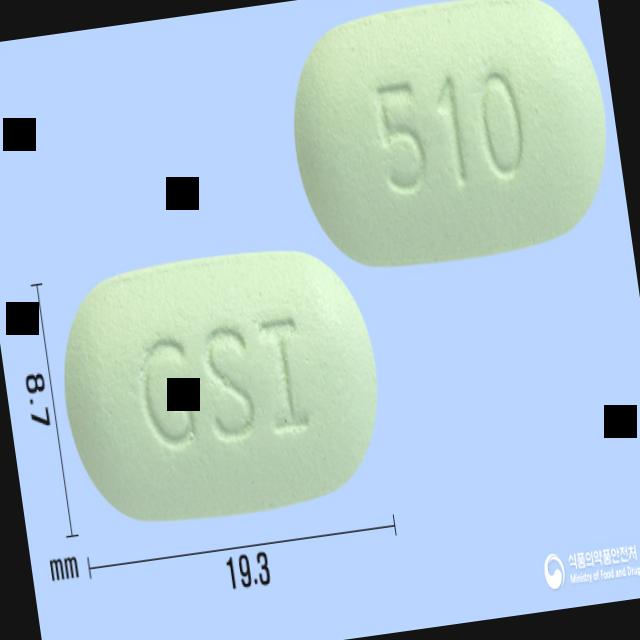Genvoya: (47, 235, 396, 540), (277, 0, 623, 280)
